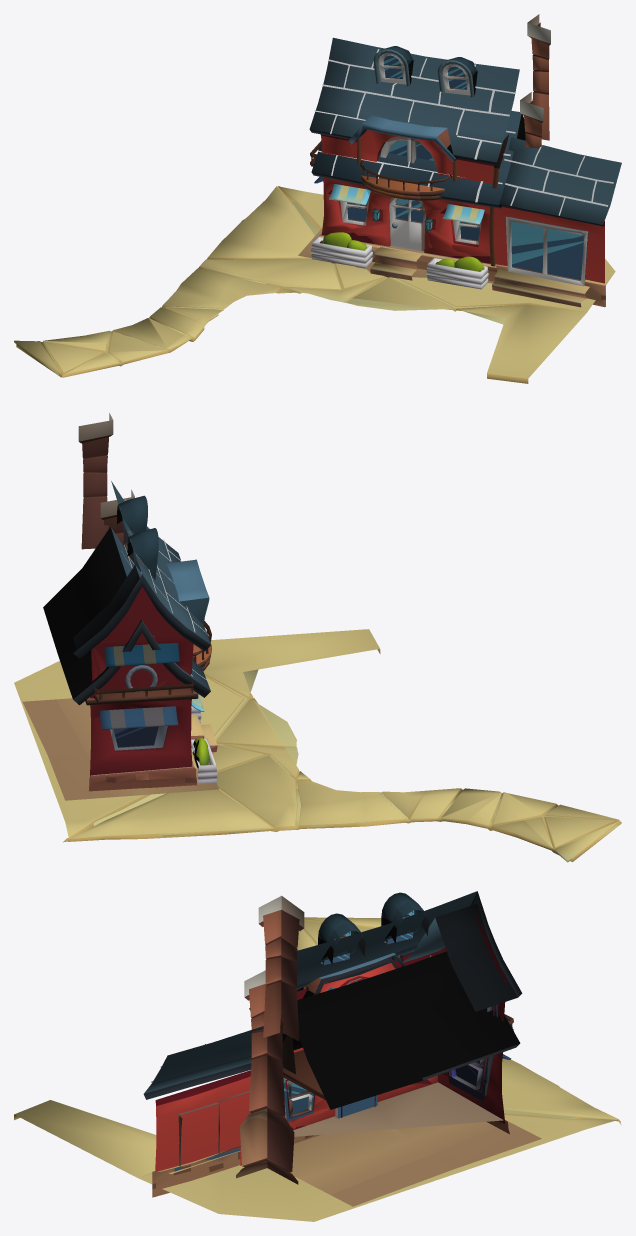
Rendered from Yard01_House.fbx.
3 views of the same model, one above another, from view 1: azimuth 30°, elevation 25°; view 2: azimuth 150°, elevation 25°; view 3: azimuth 270°, elevation 25° (orthographic). The views are drawn at different scales.
Parts seen in each view (by area): view 1: House_Path_L1_L2_L3_L4_L5, House_Roof_L3_L4_L5_G, House_ExtraRoof_L5_G, House_Roof_L1_L2_G, House_ExtraDoorsGlass_L5_G, House_Wall010_L2_G, House_Wall_L3_G, House_Path1_L0, House_ExtraWall_L5_G, House_ExtraStairs_L5_G, House_BalconyFront_L4_L5_G, House_Chimney_L3_L4_L5_G (+19 smaller); view 2: House_Path_L1_L2_L3_L4_L5, House_Roof_L1_L2_G, House_Roof_L3_L4_L5_G, House_Shadow_L1_L2_L3_L4_L5, House_Path1_L0, House_Wall01_L3_G, House_Chimney_L3_L4_L5_G, House_Wall_L3_G, House_Wall010_L2_G, House_House_L1_L2_L3_L4_L5_G, House_Blind_L2_L3_L4_L5_G, House_BalconySide_L4_L5_G (+6 smaller); view 3: House_Roof_L1_L2_G, House_Path_L1_L2_L3_L4_L5, House_Shadow_L1_L2_L3_L4_L5, House_Roof_L3_L4_L5_G, House_Wall01_L2_G, House_ExtraWall_L5_G, House_House_L1_L2_L3_L4_L5_G, House_Chimney_L3_L4_L5_G, House_ExtraRoof_L5_G, House_ExtraBase_L5_G, House_Wall010_L2_G, House_Wall_L3_G (+9 smaller).
Part boxes in pixels (x1,y1,x2,y2): House_Path_L1_L2_L3_L4_L5: (16, 186, 615, 383); House_Roof_L3_L4_L5_G: (309, 37, 519, 165); House_ExtraRoof_L5_G: (499, 137, 621, 226); House_Roof_L1_L2_G: (311, 111, 525, 208); House_ExtraDoorsGlass_L5_G: (510, 217, 588, 280); House_Wall010_L2_G: (323, 178, 494, 257); House_Wall_L3_G: (320, 129, 500, 183); House_Path1_L0: (14, 200, 513, 375); House_ExtraWall_L5_G: (494, 206, 604, 283); House_ExtraStairs_L5_G: (492, 269, 589, 307); House_BalconyFront_L4_L5_G: (357, 137, 456, 200); House_Chimney_L3_L4_L5_G: (527, 14, 550, 140); House_Path_L1_L2_L3_L4_L5: (14, 629, 621, 861); House_Roof_L1_L2_G: (43, 526, 210, 705); House_Roof_L3_L4_L5_G: (73, 481, 210, 658); House_Shadow_L1_L2_L3_L4_L5: (22, 698, 218, 800); House_Path1_L0: (93, 669, 618, 862); House_Wall01_L3_G: (90, 708, 192, 776); House_Chimney_L3_L4_L5_G: (78, 413, 113, 549); House_Wall_L3_G: (93, 586, 193, 686); House_Wall010_L2_G: (90, 663, 191, 752); House_House_L1_L2_L3_L4_L5_G: (89, 751, 198, 791); House_Blind_L2_L3_L4_L5_G: (99, 706, 178, 729); House_BalconySide_L4_L5_G: (94, 680, 193, 704); House_Roof_L1_L2_G: (282, 951, 520, 1109); House_Path_L1_L2_L3_L4_L5: (14, 917, 621, 1221); House_Shadow_L1_L2_L3_L4_L5: (290, 1120, 541, 1206); House_Roof_L3_L4_L5_G: (249, 891, 522, 1011); House_Wall01_L2_G: (236, 970, 298, 1184); House_ExtraWall_L5_G: (155, 1070, 250, 1171); House_House_L1_L2_L3_L4_L5_G: (293, 1082, 509, 1143); House_Chimney_L3_L4_L5_G: (258, 895, 304, 1041); House_ExtraRoof_L5_G: (143, 1026, 284, 1099); House_ExtraBase_L5_G: (152, 1151, 240, 1197); House_Wall010_L2_G: (284, 1053, 505, 1130); House_Wall_L3_G: (293, 905, 506, 1052).
Bounding box in the file's own units: 670 × 299 × 565.
